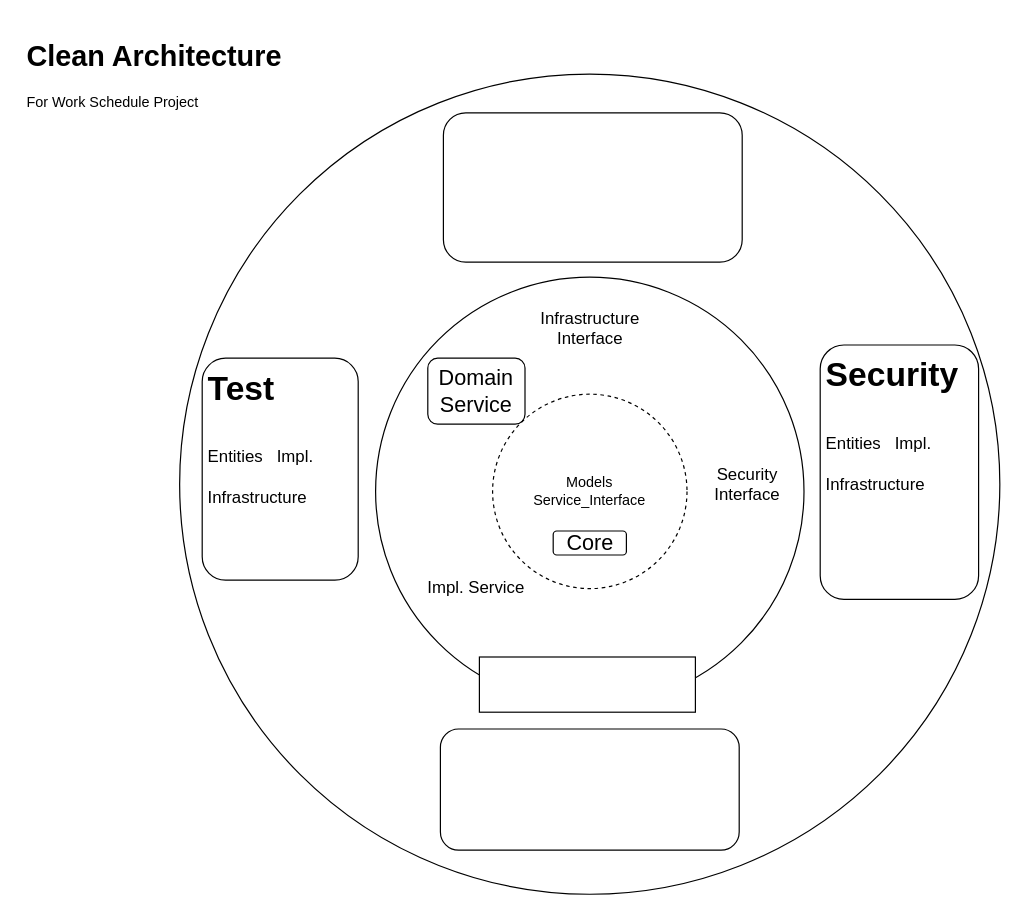
The diagram is 1021 pixels wide and 916 high, and some of its shapes have lost their labels. Here are the shapes that lost their labels. From the top down, the box of each, then its label:
(442, 112, 742, 262): Infrastructure Entities Impl. Infrastructure
(478, 656, 695, 712): Application Core
(439, 728, 739, 850): Persentation Entities Impl. Infrastructure
